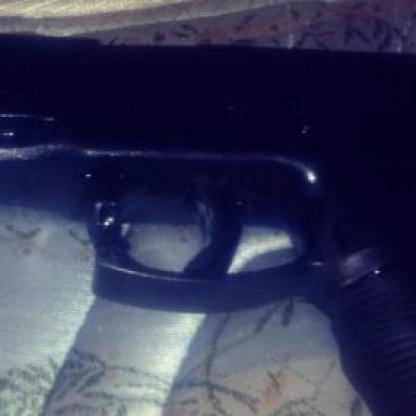gun: (0, 11, 415, 414)
